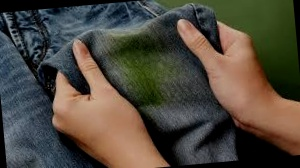earth: (121, 34, 170, 95)
